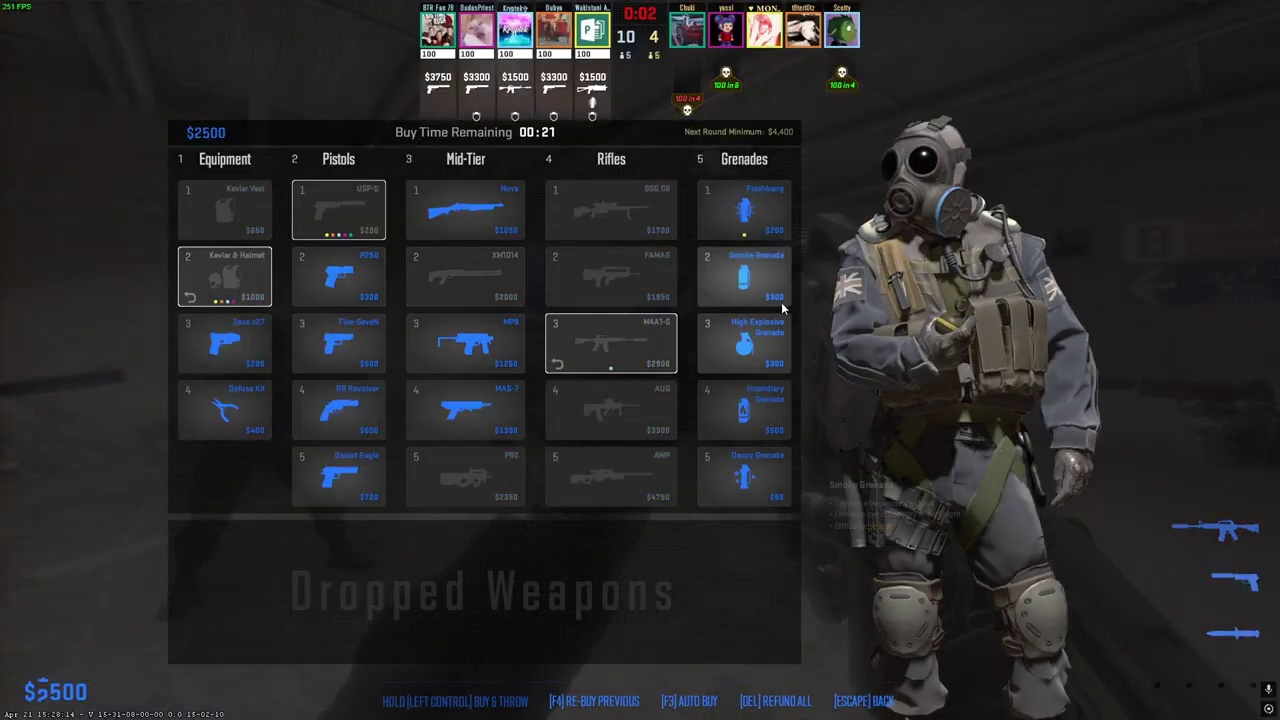CT: (852, 122, 1075, 720)
